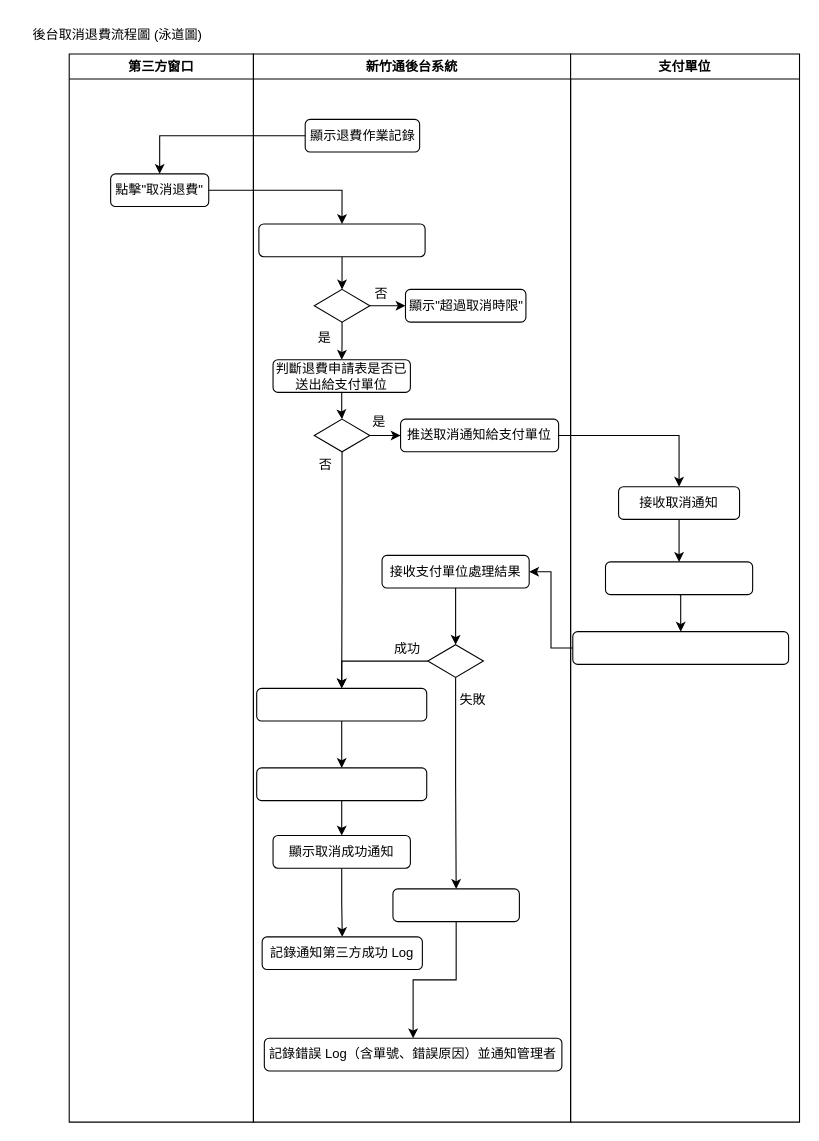
Some shapes in this 819 by 1141 pixel diagram are drawn without their labels. The shapes that lost their labels are listed below. From the top down, each one's centre as x and y in pixels, then its label:
At point (341, 240): "驗證是否在可取消時限內（如銷帳日前）".
At point (678, 578): "進行 取消申請的確認處理".
At point (680, 647): "回傳結果給第三方（ 成功 / 失敗）".
At point (341, 704): "更新退費狀態為「已取消」".
At point (341, 784): "記錄取消時間與操作人員".
At point (455, 905): "顯示取消失敗通知".
